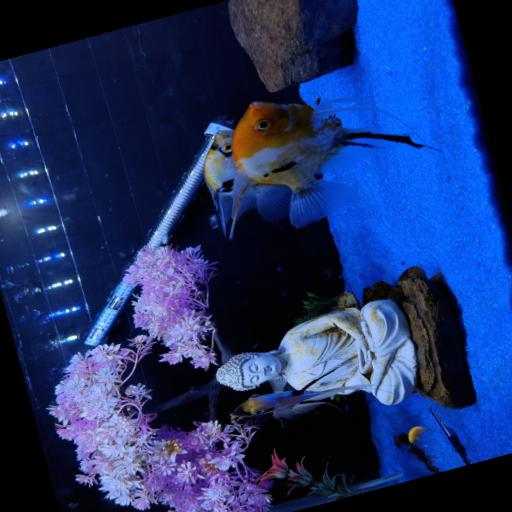Fish: (231, 98, 427, 237), (231, 370, 373, 425), (204, 130, 238, 236), (204, 130, 237, 236), (409, 426, 428, 443)
